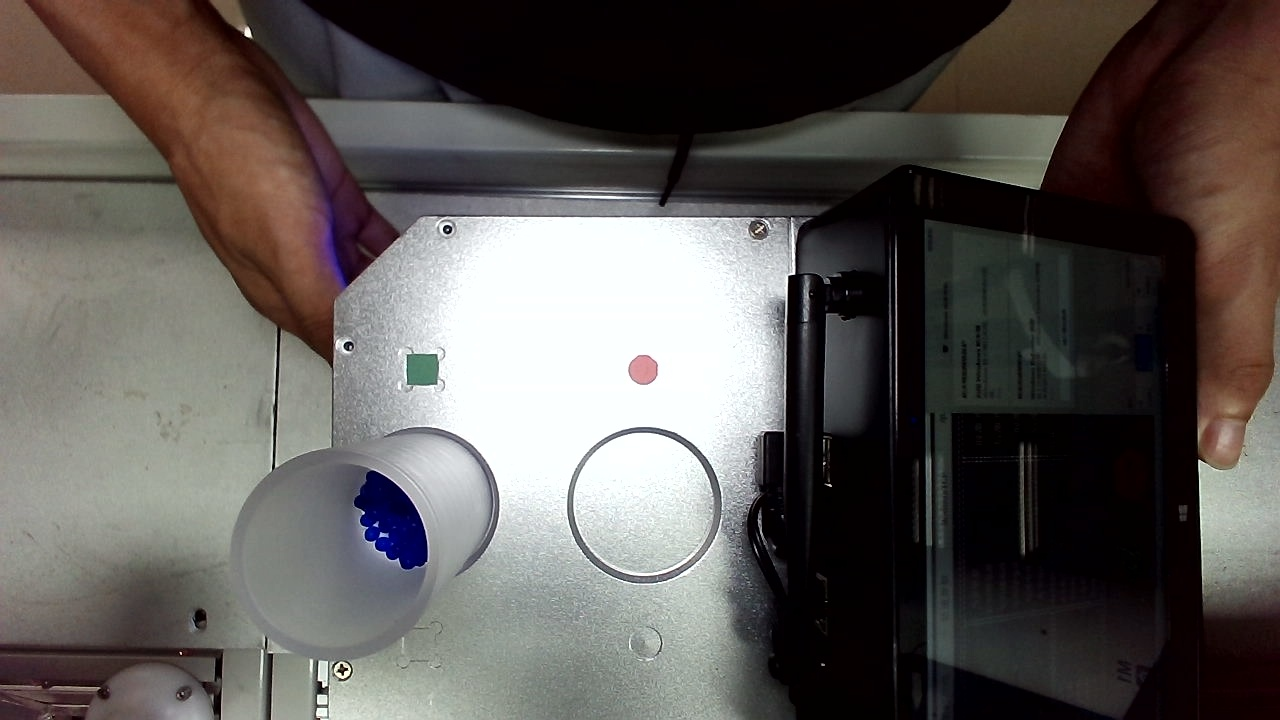bad: (835, 389, 886, 437), (272, 587, 320, 636), (784, 15, 829, 62), (266, 9, 310, 55), (818, 94, 862, 137), (261, 163, 304, 204), (752, 610, 793, 651), (477, 636, 518, 677), (770, 510, 809, 551), (397, 166, 436, 206), (475, 521, 513, 562), (832, 52, 873, 89), (365, 38, 404, 76), (497, 610, 534, 650), (440, 527, 479, 564), (316, 260, 353, 296), (809, 361, 845, 398), (818, 489, 852, 526), (802, 53, 835, 91), (404, 53, 438, 88)
defact: (675, 120, 719, 151)
pass: (609, 481, 654, 534), (584, 143, 627, 194), (757, 138, 801, 184), (529, 249, 572, 291), (539, 494, 581, 537), (259, 542, 301, 585), (300, 529, 340, 572), (361, 336, 400, 380), (426, 576, 468, 616), (483, 275, 523, 317), (464, 573, 501, 618), (697, 616, 737, 657), (640, 145, 678, 186), (853, 526, 891, 567), (836, 607, 876, 645), (682, 87, 717, 126), (578, 16, 612, 54)
toolong: (683, 478, 745, 544), (732, 562, 783, 617), (311, 75, 367, 125)
unpass: (794, 201, 844, 246), (528, 551, 576, 596), (832, 1, 875, 51), (820, 631, 862, 678), (341, 515, 385, 558), (836, 344, 880, 387), (266, 435, 308, 480), (262, 286, 306, 327), (412, 622, 455, 663), (851, 488, 890, 531), (635, 89, 674, 132), (817, 524, 858, 562), (675, 588, 712, 630), (284, 400, 323, 439), (858, 639, 897, 676), (519, 54, 556, 92), (272, 202, 311, 238), (726, 102, 759, 144), (468, 243, 505, 280), (547, 34, 582, 73), (486, 44, 521, 82), (512, 22, 547, 58)
